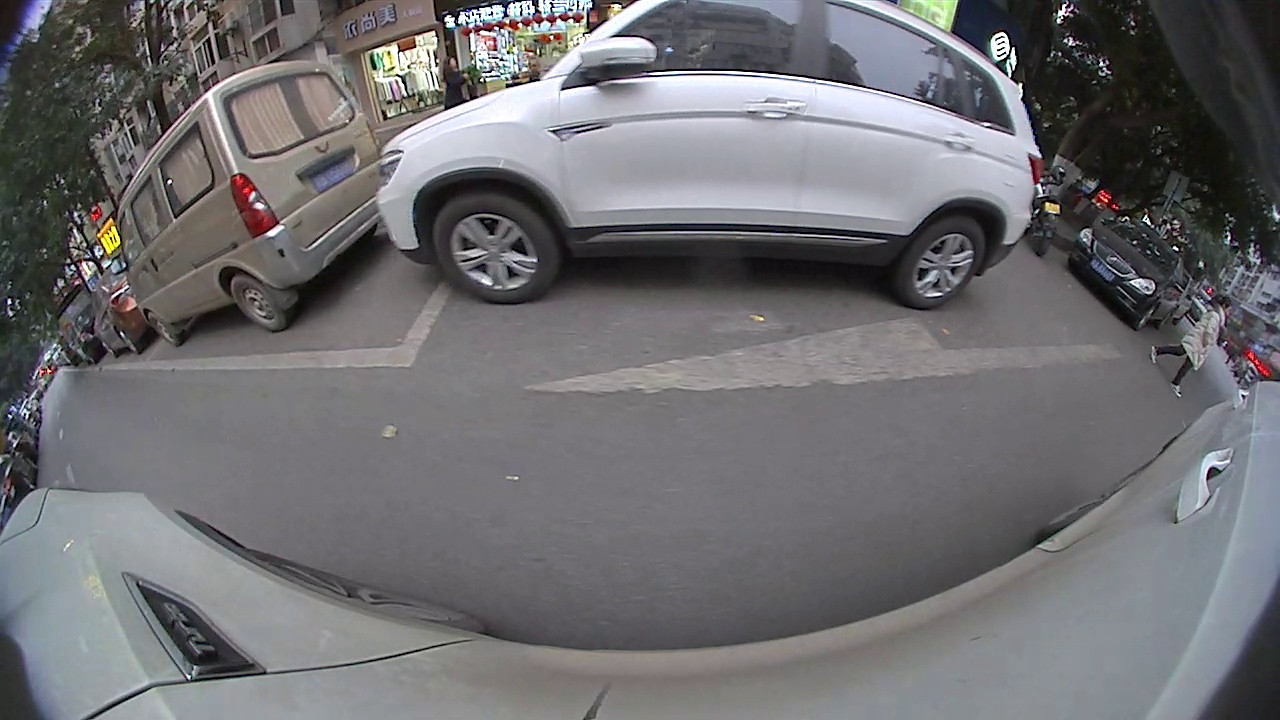car: (889, 137, 1201, 444), (263, 78, 463, 202), (1, 253, 99, 405)
front: (1117, 386, 1176, 443), (317, 154, 354, 202), (779, 125, 807, 165), (62, 323, 88, 355)
rear: (937, 227, 1007, 297), (271, 167, 293, 196), (81, 291, 104, 316)
rider: (728, 70, 809, 167), (600, 58, 620, 109)
